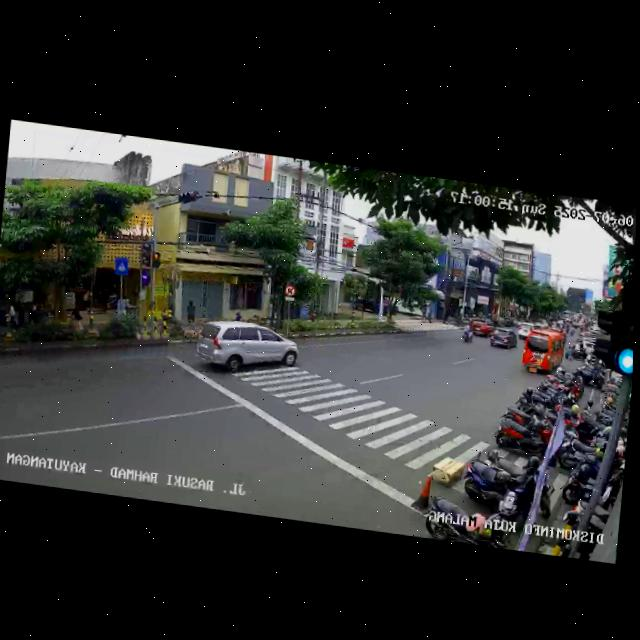car: (191, 311, 300, 385), (520, 325, 566, 378), (487, 325, 518, 351)
motorcycle: (461, 321, 473, 343)
person: (184, 298, 197, 326)
